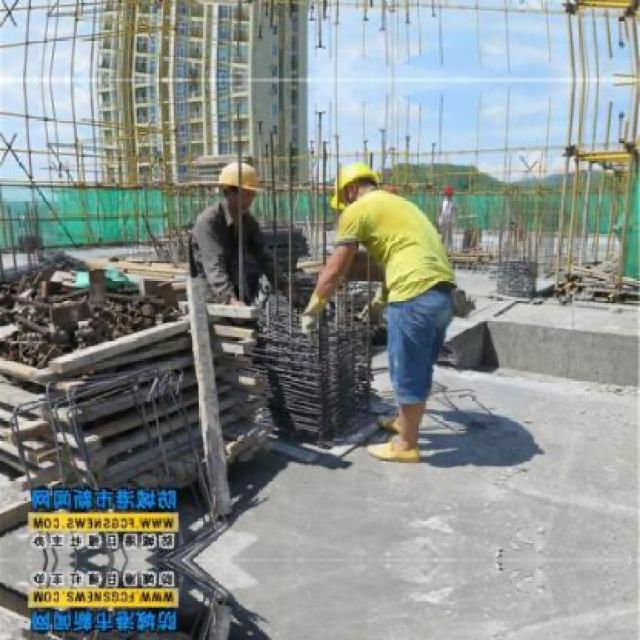helmet: (332, 160, 388, 214), (215, 158, 260, 214)
